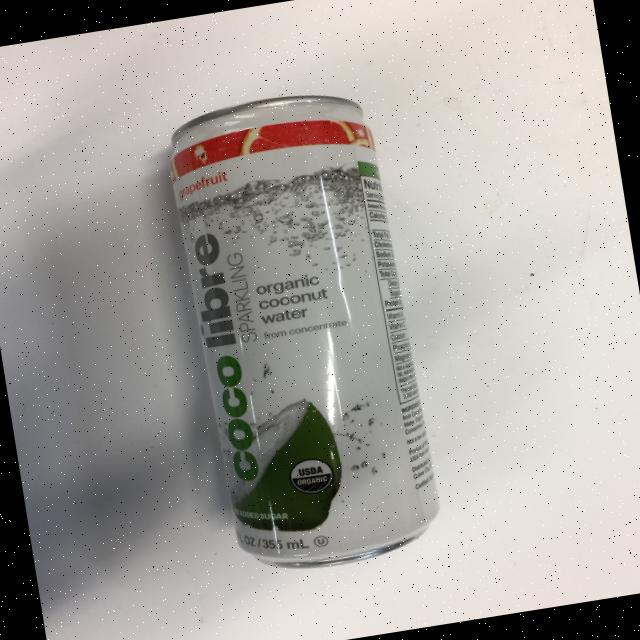metal: (160, 81, 448, 581)
